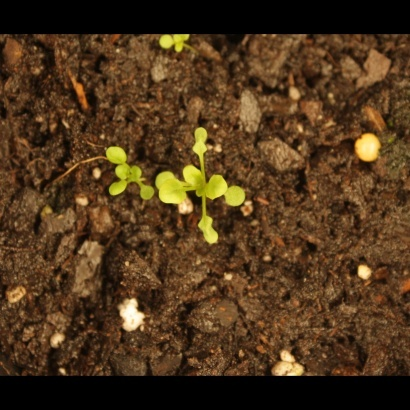leaf: (224, 177, 253, 214), (99, 179, 130, 209), (189, 122, 214, 156), (161, 179, 188, 207), (195, 216, 220, 246), (155, 169, 180, 198), (205, 175, 229, 205), (183, 164, 206, 192), (107, 141, 130, 165), (106, 162, 130, 185), (131, 161, 155, 184), (154, 33, 177, 56), (179, 30, 202, 53), (135, 183, 158, 206)
